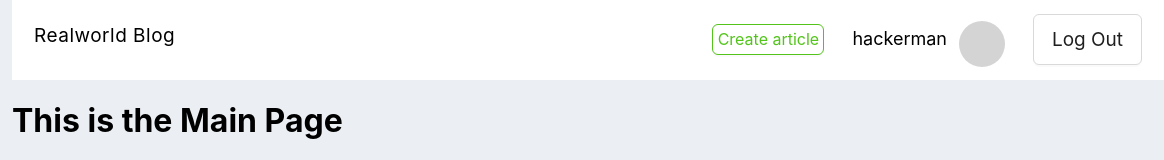
Test: Component: Header › should redirect to the Create New Article Page when create article button is clicked
Check: the heading "This is the Main Page" is shown, box 12,101 -> 343,140
Click the button "Create article" at point(768, 39), box 712,24 -> 824,54
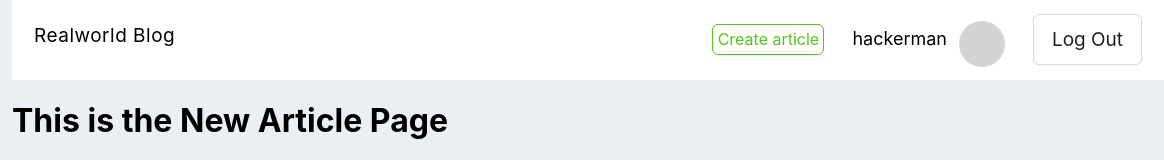
Check: the heading "This is the New Article Page" is shown, box 12,101 -> 448,140
